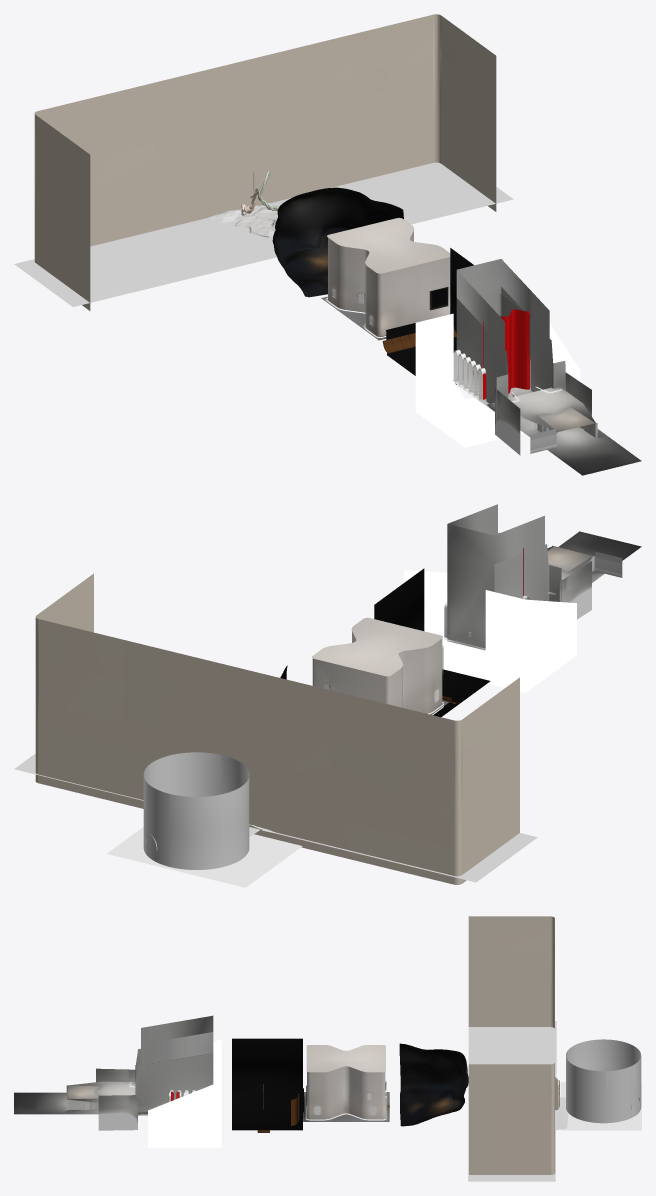
The model's file is scenes.glb.
3 views of the same model, one above another, from view 1: azimuth 30°, elevation 25°; view 2: azimuth 150°, elevation 25°; view 3: azimuth 270°, elevation 25° (orthographic). The views are drawn at different scales.
Visible parts, largest first — view 1: wall_04, FLOOR, ROOM03_COMBINED, Room_01_baked, ROOM_04, Plane, sol_baked, toit_baked, Interaction_Raycaster, Murs_baked, Parois_02, SOCLE_SOL (+1 smaller); view 2: wall_04, Circle.002, Room_01_baked, Plane, ROOM03_COMBINED, Sol_06, Parois_02, FLOOR, sol_baked, Murs_baked, toit_baked, ROOM_00_Baked; view 3: wall_04, Parois_02, Circle.002, Room_01_baked, ROOM03_COMBINED, ROOM_04, FLOOR, Plane, Murs_baked, sol_baked, toit_baked, Sol_06 (+1 smaller).
Part boxes in pixels (<box>): wall_04: <box>34,14,496,310</box>; FLOOR: <box>14,162,513,306</box>; ROOM03_COMBINED: <box>327,217,450,336</box>; Room_01_baked: <box>453,259,565,431</box>; ROOM_04: <box>272,187,403,297</box>; Plane: <box>415,313,580,447</box>; sol_baked: <box>487,403,641,475</box>; toit_baked: <box>508,387,595,431</box>; Interaction_Raycaster: <box>483,309,530,399</box>; Murs_baked: <box>495,372,591,455</box>; Parois_02: <box>386,248,473,384</box>; SOCLE_SOL: <box>235,205,279,237</box>; wall_04: <box>35,573,519,884</box>; Circle.002: <box>143,752,249,869</box>; Room_01_baked: <box>444,504,561,650</box>; Plane: <box>404,570,576,692</box>; ROOM03_COMBINED: <box>311,617,442,713</box>; Sol_06: <box>107,827,302,887</box>; Parois_02: <box>374,568,490,716</box>; FLOOR: <box>14,753,537,882</box>; sol_baked: <box>558,531,641,582</box>; Murs_baked: <box>559,561,591,619</box>; toit_baked: <box>547,546,592,594</box>; ROOM_00_Baked: <box>552,545,622,577</box>; wall_04: <box>468,916,559,1180</box>; Parois_02: <box>232,1038,303,1130</box>; Circle.002: <box>566,1039,641,1123</box>; Room_01_baked: <box>135,1015,213,1111</box>; ROOM03_COMBINED: <box>306,1045,386,1119</box>; ROOM_04: <box>399,1043,468,1126</box>; FLOOR: <box>468,1021,568,1181</box>; Plane: <box>148,1039,221,1147</box>; Murs_baked: <box>96,1068,137,1130</box>; sol_baked: <box>14,1092,147,1114</box>; toit_baked: <box>67,1081,135,1102</box>; Sol_06: <box>560,1082,641,1130</box>.
Bounding box in the file's own units: 269 × 106 × 444.
Materials: 49 (23 with a texture image).
